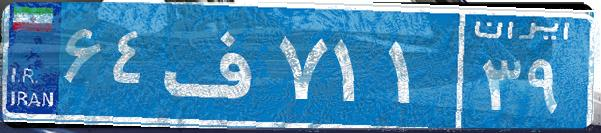1: (385, 28, 445, 110), (330, 28, 385, 110)
3: (475, 38, 525, 113)
4: (110, 28, 158, 105)
6: (57, 26, 110, 107)
7: (273, 28, 330, 110)
9: (525, 38, 570, 115)
ف: (158, 15, 273, 115)
